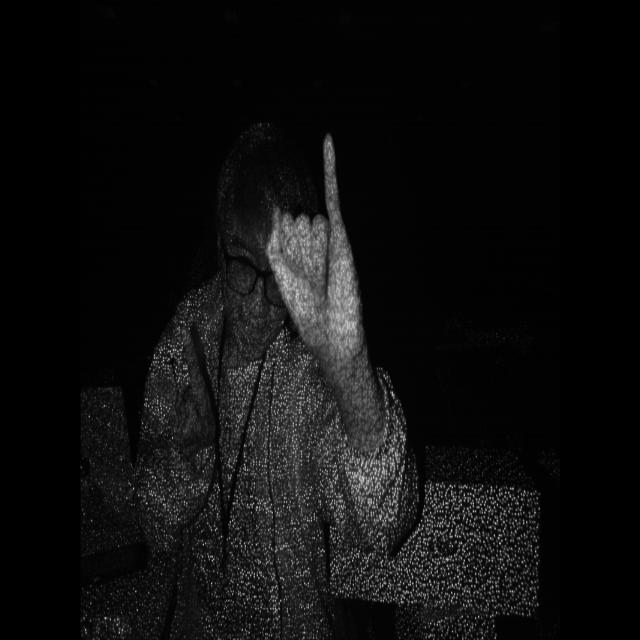I: (253, 115, 373, 388)
